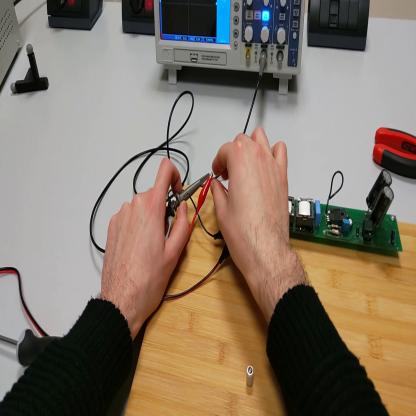hand: (99, 157, 191, 326), (212, 128, 293, 277)
high voltage board: (213, 171, 403, 257)
oscilloscope: (157, 3, 308, 91)
oscilloscope probe tip: (166, 168, 209, 218)
pliers: (373, 124, 416, 182)
power supply: (2, 2, 26, 91)
screwdriver-: (2, 327, 66, 367)
socket: (48, 3, 105, 39), (120, 2, 158, 39)
working area: (125, 178, 416, 415)
